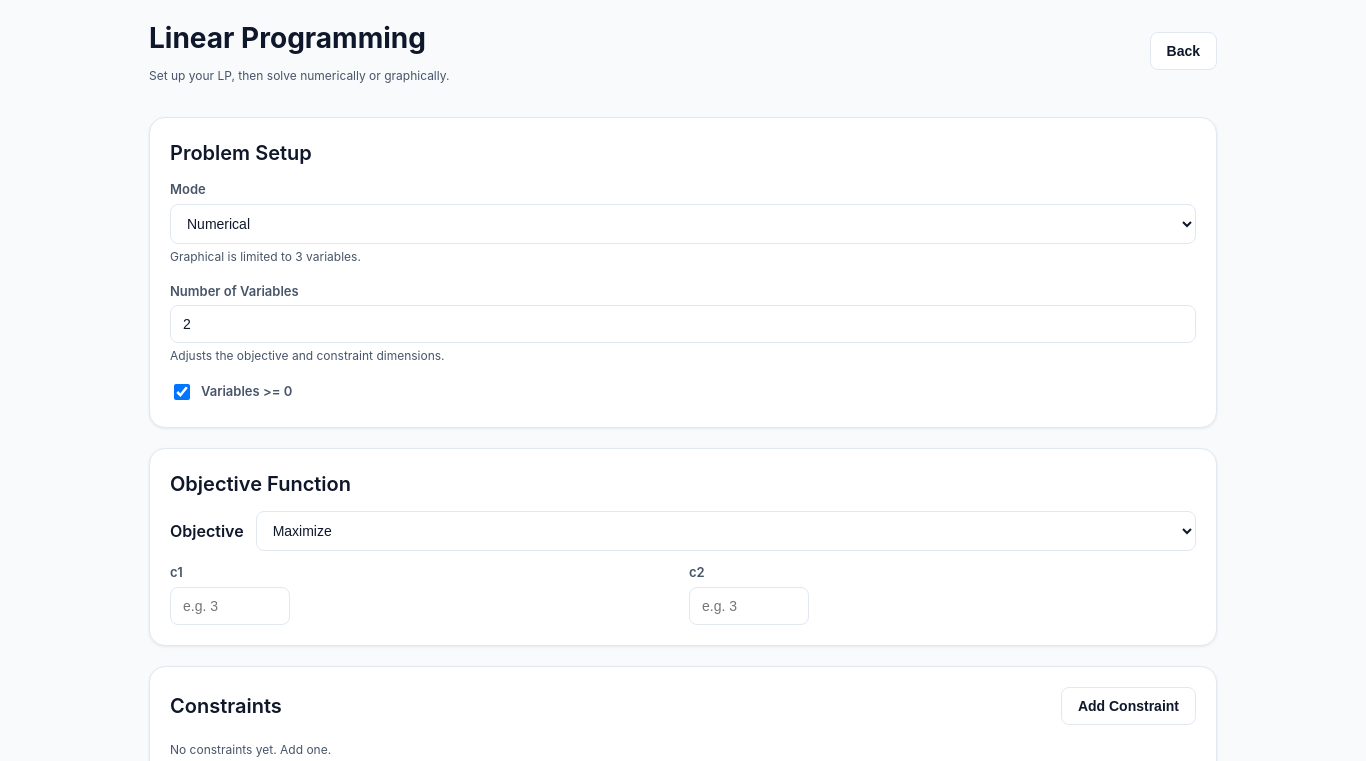
LPWorkspace › submits a numerical LP solve and renders the result
Step 1. Type "3" into the field labelled "c1" → (230, 606), box [170, 586, 290, 624]
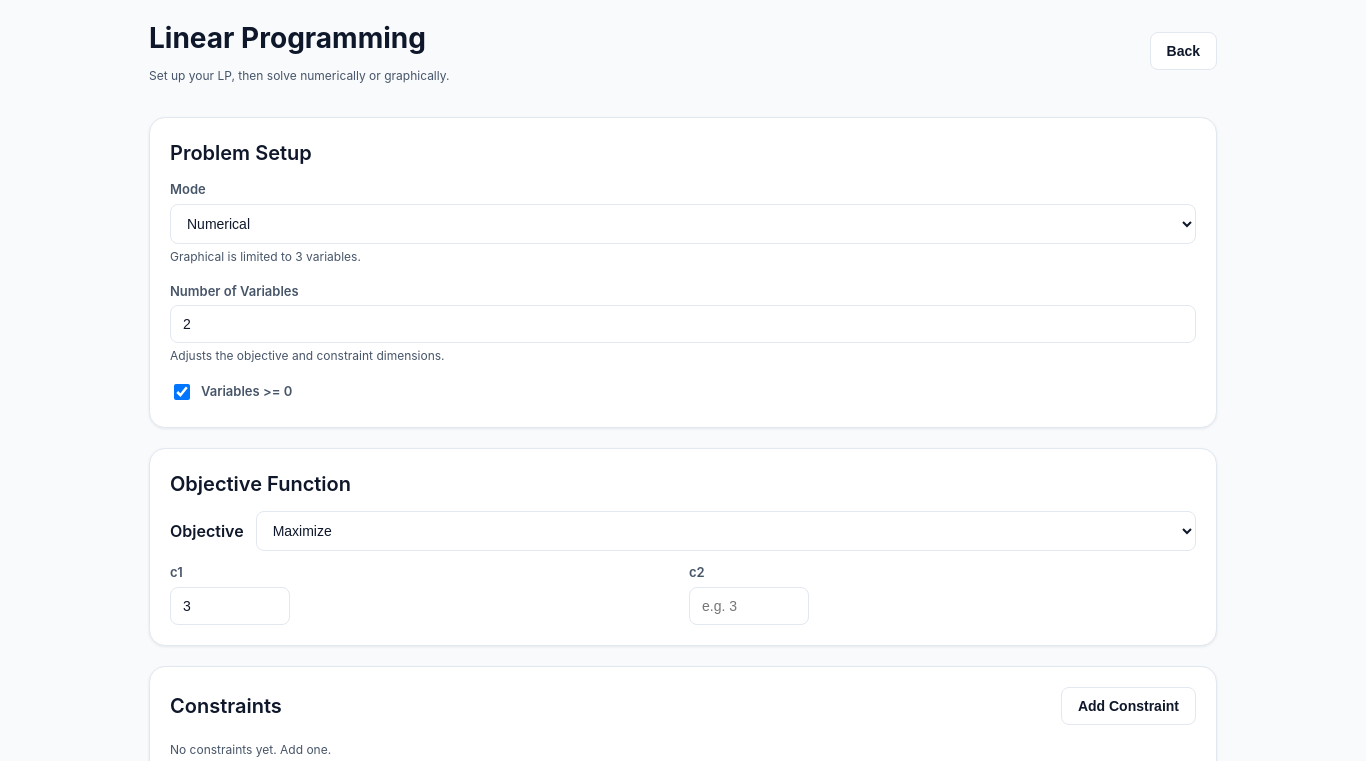
Step 2. Type "5" into the field labelled "c2" → (749, 606), box [689, 586, 809, 624]
(page scrolled)
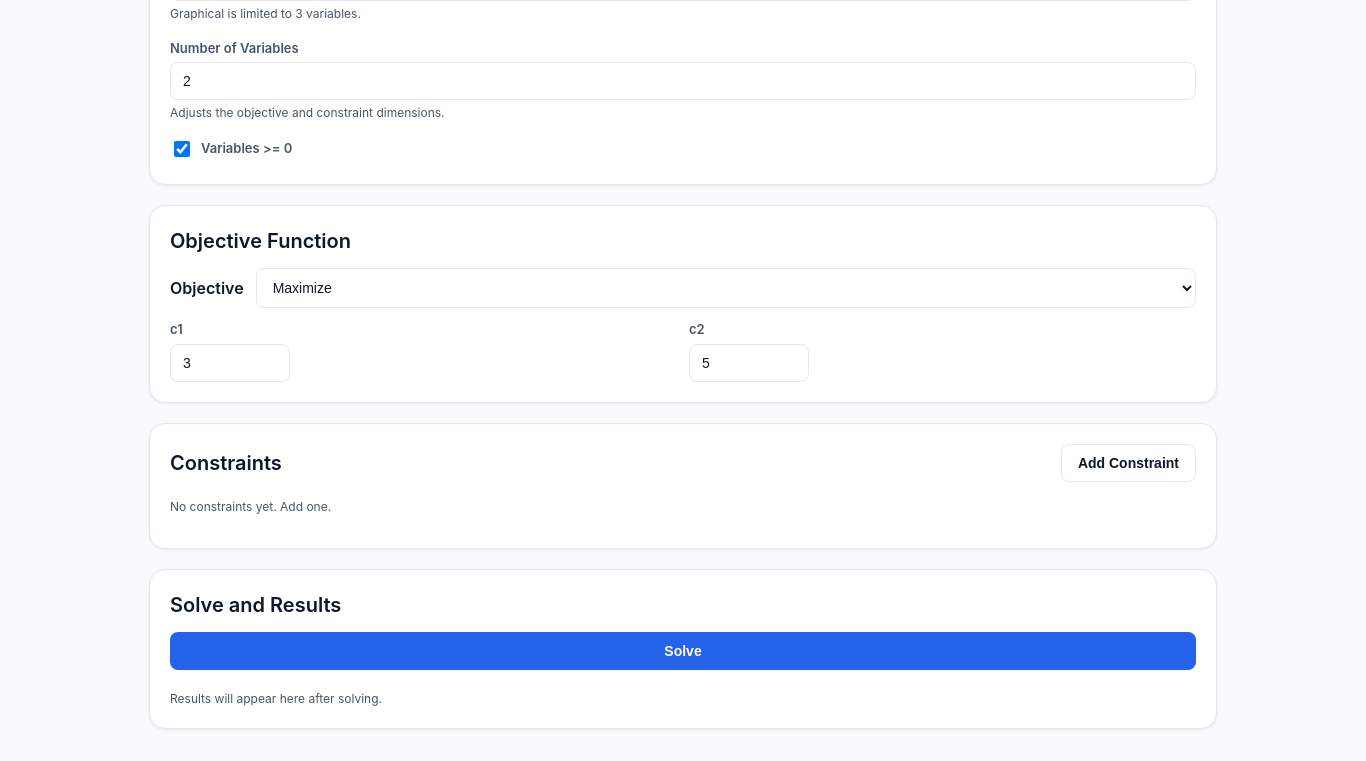
Step 3. Click the button "Solve" → (683, 650), box [170, 632, 1196, 670]
(page scrolled)
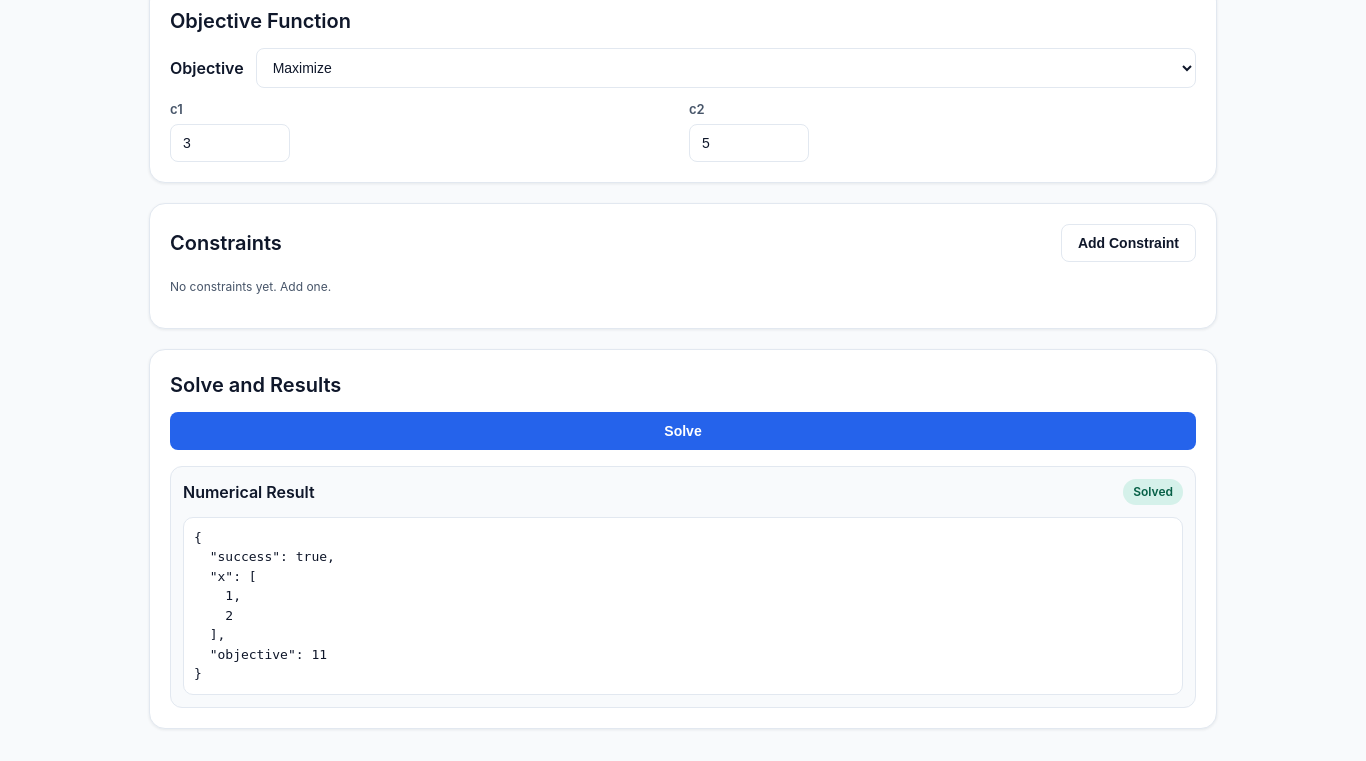
Check: the heading "Numerical Result" is shown, box [183, 480, 315, 504]
Check: the text "{ \"success\": true, \"x\": [ 1, 2 ], \"objective\": 11 }" is shown, box [183, 516, 1183, 694]
